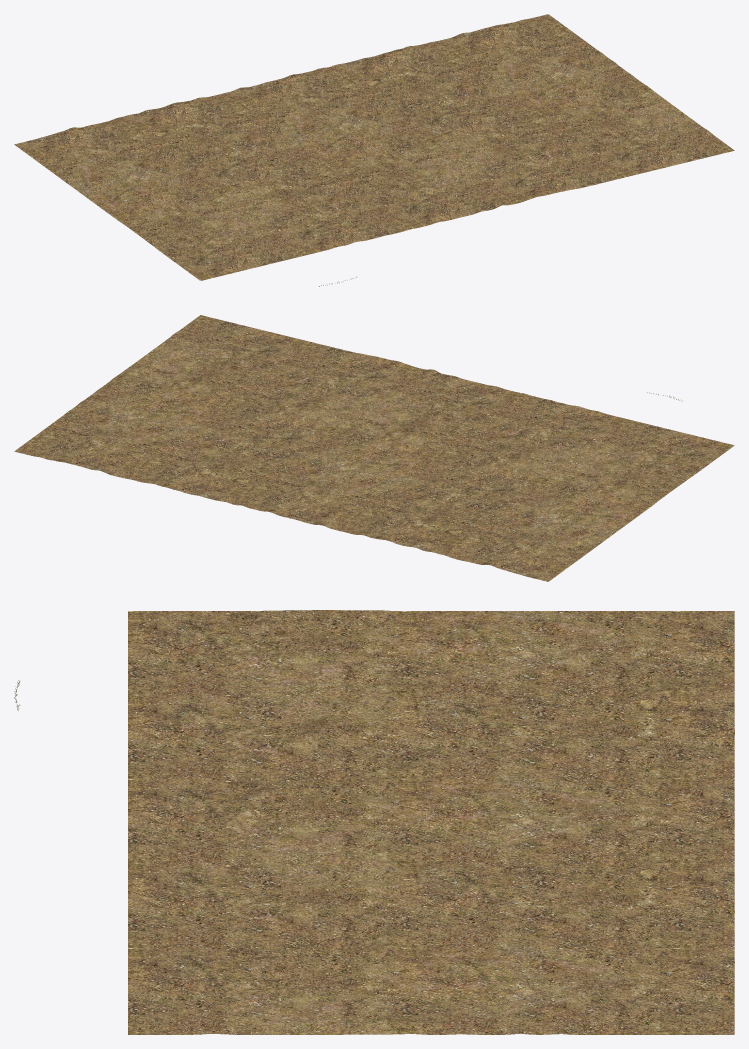
Rendered from Grass_obj.obj.
The picture shows the model from 3 angles, top to bottom: view 1: azimuth 30°, elevation 25°; view 2: azimuth 150°, elevation 25°; view 3: azimuth 270°, elevation 25°; orthographic projection. The views are drawn at different scales.
Parts seen in each view (by area): view 1: Ground_grass; view 2: Ground_grass; view 3: Ground_grass.
Part boxes in pixels (x1,y1,x2,y2): Ground_grass: (14,14,734,280); Ground_grass: (14,315,734,581); Ground_grass: (128,610,734,1034).
Size of the model in its own units: 16258 by 159 by 11686.
Materials: 11 (11 with a texture image).
